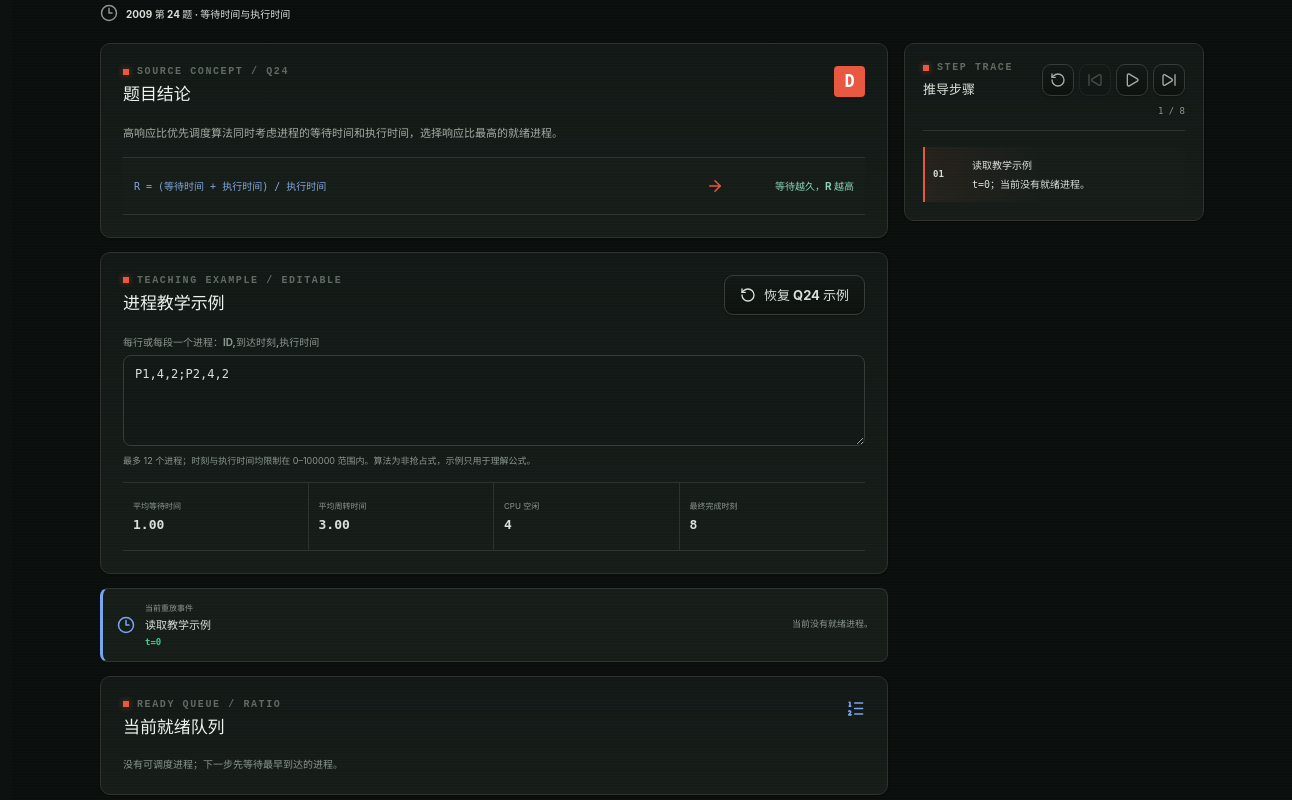
Test case: HrrnSchedulingLabPage › keeps custom jobs URL-driven, fails closed, and restores the Q24 example
(page scrolled)
Replace the text in the text box named "进程教学示例" with "P1,0,0" at (494, 400), box [123, 355, 865, 446]
(page scrolled)
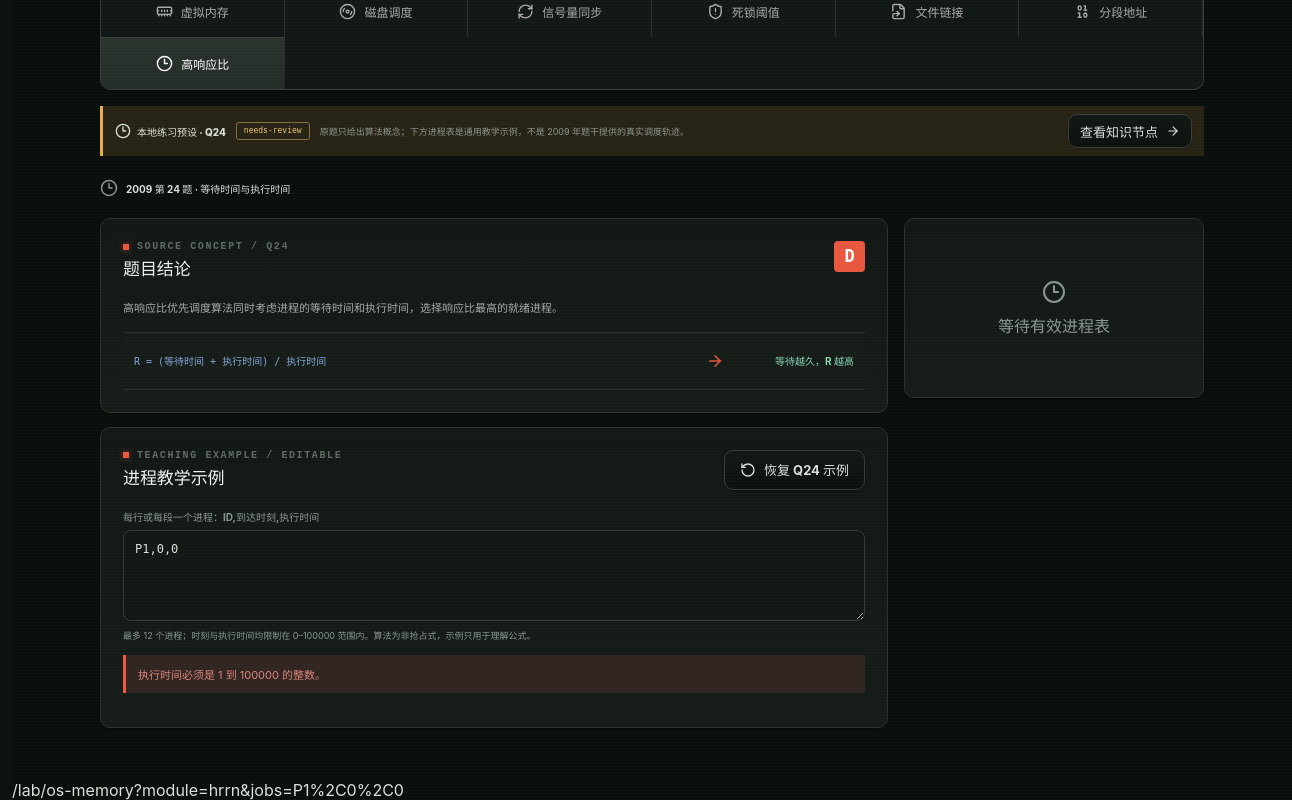
Expected: the message shows "执行时间", [138, 668, 326, 682]
Click the button "恢复 Q24 示例" at (794, 470), box [724, 450, 865, 490]
(page scrolled)
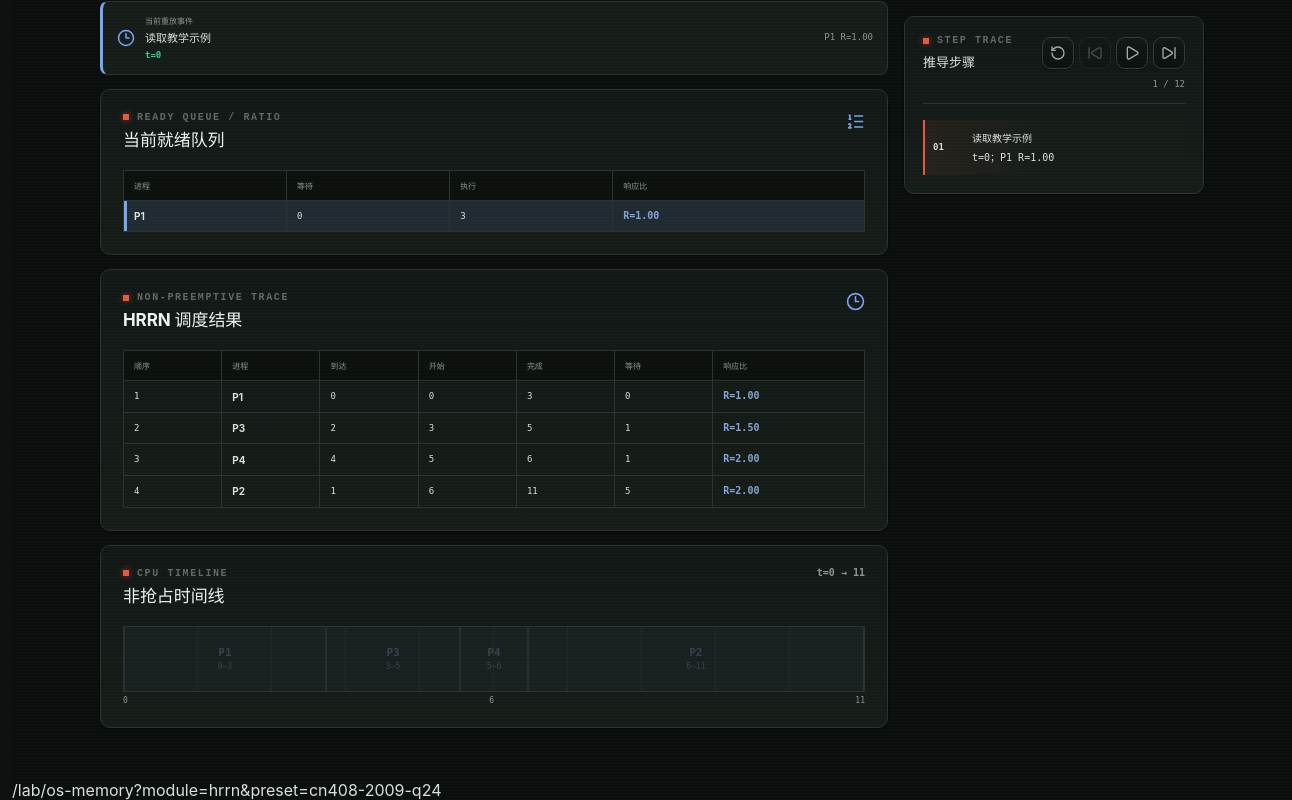
Expected: the text named "当前测试地址" shows "module=hrrn", [134, 780, 442, 799]
Expected: the text named "当前测试地址" shows "preset=cn408-2009-q24", [134, 780, 442, 799]
Expected: the table named "HRRN 调度结果" shows "P4", [232, 454, 246, 466]
